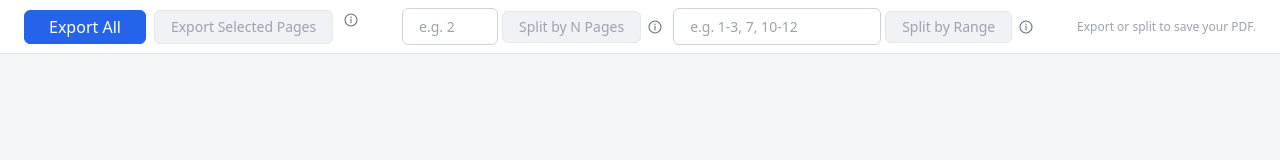
Test: Toolbar — Split by N pages › is disabled until a positive page count is entered
Expected: the button "Split by N Pages" is disabled, top-left (502, 10), bottom-right (641, 42)
In the number field named "Pages per split": (450, 26) top-left (402, 8), bottom-right (498, 45), type "2"
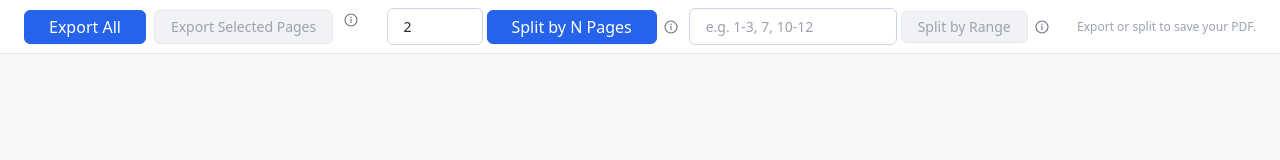
Expected: the button "Split by N Pages" is enabled, top-left (486, 10), bottom-right (657, 44)
